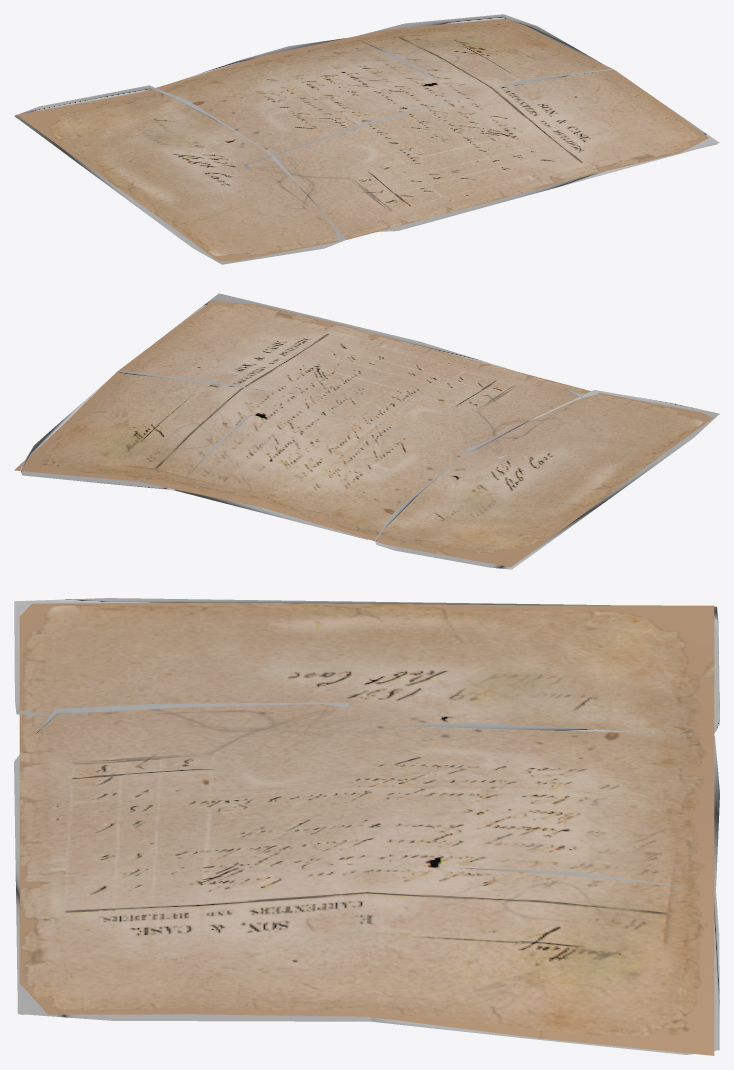
The model's file is SM_Paper_06.gltf.
3 views of the same model, one above another, from view 1: azimuth 30°, elevation 25°; view 2: azimuth 150°, elevation 25°; view 3: azimuth 270°, elevation 25° (orthographic). The views are drawn at different scales.
Parts seen in each view (by area): view 1: SM_Paper_06_LOD0, SM_Paper_06_ConvexHulls; view 2: SM_Paper_06_LOD0, SM_Paper_06_ConvexHulls; view 3: SM_Paper_06_LOD0, SM_Paper_06_ConvexHulls.
Part boxes in pixels (<box>): SM_Paper_06_LOD0: <box>16,19,717,261</box>; SM_Paper_06_ConvexHulls: <box>14,14,719,264</box>; SM_Paper_06_LOD0: <box>14,301,712,567</box>; SM_Paper_06_ConvexHulls: <box>20,293,719,569</box>; SM_Paper_06_LOD0: <box>19,602,714,1055</box>; SM_Paper_06_ConvexHulls: <box>14,598,719,1054</box>.
Size of what is drawn, in the model's own units: 0.4852 by 0.0373 by 0.3498.
